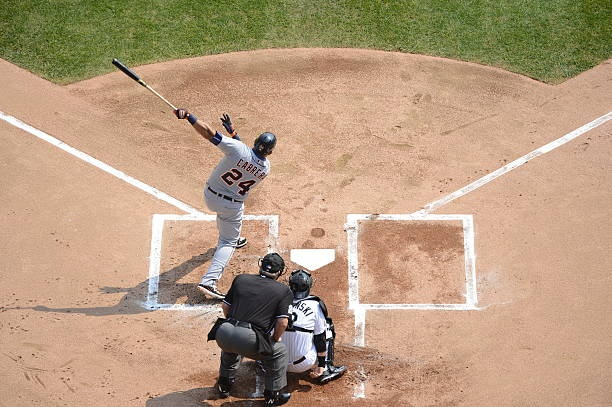bita: (110, 57, 191, 119)
